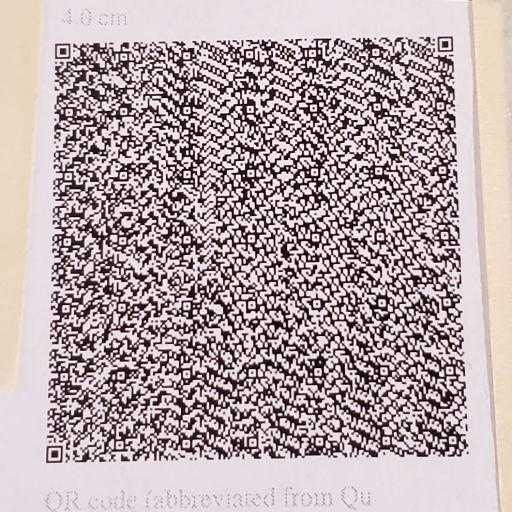QR_CODE: (34, 21, 486, 478)
